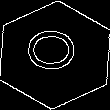O_E: (25, 32, 85, 78)
